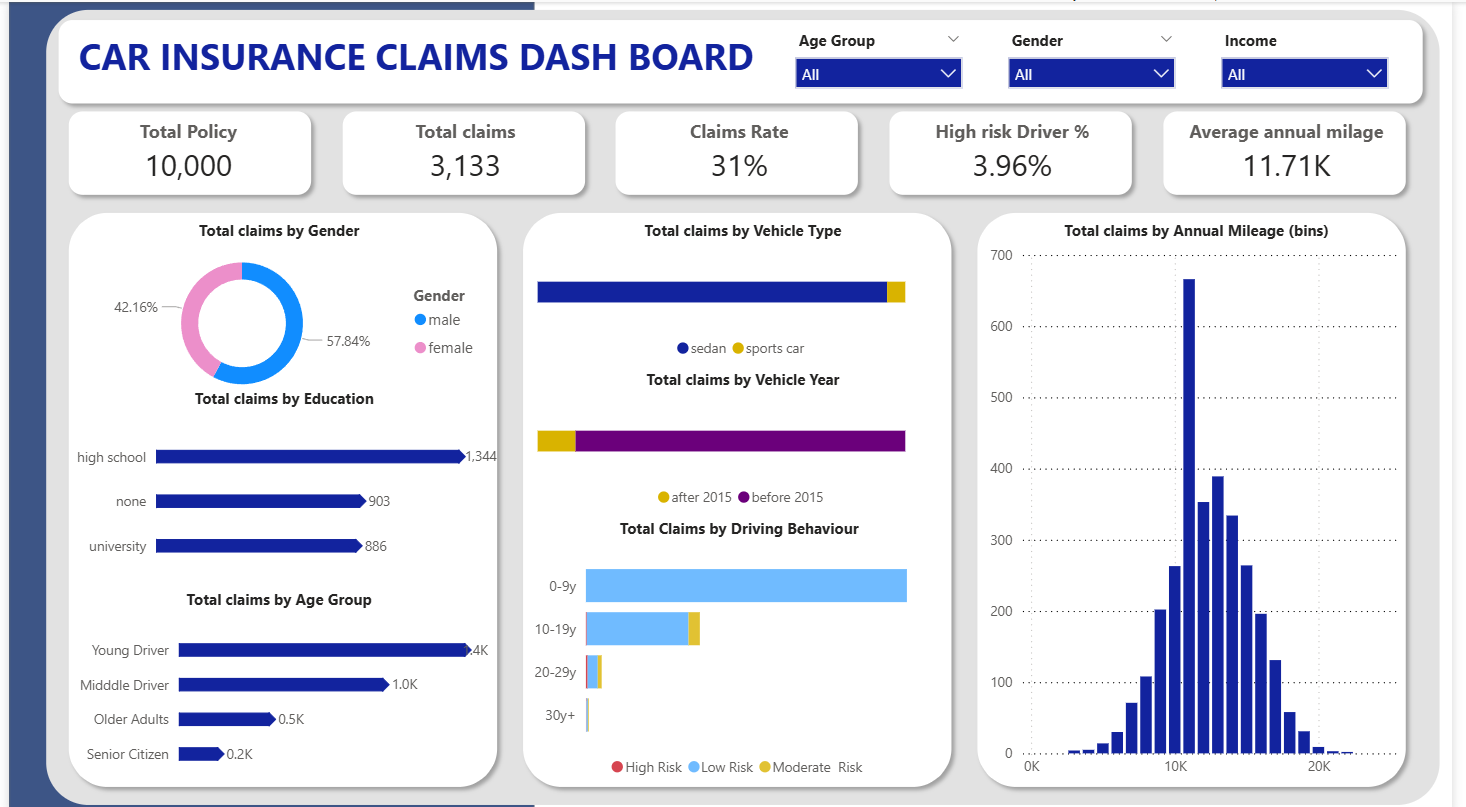

The page's visual inventory and layout, read from the dashboard file:
{"tool":"powerbi","page":{"name":"Page 1","canvas":[1280,720],"ordinal":0},"visuals":[{"type":"cardVisual","fields":{"Data":["Dax Measure.total Policy"]},"box":[50.5,86.9,217.2,83.3],"z":0},{"type":"cardVisual","fields":{"Data":["Dax Measure.Total claims"]},"box":[296.2,86.9,217.2,83.3],"z":1000},{"type":"cardVisual","fields":{"Data":["Dax Measure.Claims Rate"]},"box":[539.1,86.9,217.2,83.3],"z":2000},{"type":"cardVisual","fields":{"Data":["Dax Measure.High risk Driver %"]},"box":[781.2,86.9,217.2,83.3],"z":3000},{"type":"cardVisual","fields":{"Data":["Dax Measure.Average annual milage"]},"box":[1024.1,86.9,217.2,83.3],"z":4000},{"type":"donutChart","fields":{"Y":["Dax Measure.Total claims"],"Category":["Car_Insurance_Claim.Gender"]},"box":[49.4,193.5,380,166.3],"z":5000},{"type":"barChart","fields":{"Category":["Car_Insurance_Claim.Education"],"Y":["Dax Measure.Total claims"]},"box":[50.4,342.7,387,177.4],"z":6000},{"type":"barChart","fields":{"Y":["Dax Measure.Total claims"],"Category":["Car_Insurance_Claim.Age Group"]},"box":[49.4,520.1,380,176.4],"z":7000},{"type":"barChart","fields":{"Y":["Dax Measure.Total claims"],"Series":["Car_Insurance_Claim.Vehicle Type"]},"box":[463.7,193.3,374.2,132.1],"z":8000},{"type":"barChart","fields":{"Y":["Dax Measure.Total claims"],"Series":["Car_Insurance_Claim.Vehicle Year"]},"box":[463.7,325.4,374.2,132.1],"z":9000},{"type":"barChart","title":"Total Claims by Driving Behaviour","fields":{"Y":["Dax Measure.Total claims"],"Category":["Car_Insurance_Claim.Driving Experience"],"Series":["Car_Insurance_Claim.Driving Risk Category"]},"box":[457.6,457.6,380,238.9],"z":10000},{"type":"clusteredColumnChart","fields":{"Category":["Car_Insurance_Claim.Annual Mileage (bins)"],"Y":["Dax Measure.Total claims"]},"box":[864.8,193.5,376.9,502.9],"z":11000},{"type":"textbox","box":[50.4,20.2,620.9,66.5],"z":12000},{"type":"slicer","fields":{"Values":["Car_Insurance_Claim.Age Group"]},"box":[687.4,20.2,168.3,66.5],"z":13000},{"type":"slicer","fields":{"Values":["Car_Insurance_Claim.Gender"]},"box":[876.3,20.2,168.3,66.5],"z":14000},{"type":"slicer","fields":{"Values":["Car_Insurance_Claim.Income"]},"box":[1065.3,20.2,168.3,66.5],"z":15000}]}

Visuals, with their boxes in screenshot pixels (x1, y1, x2, y2), scaled from the page's 1280x720 canvas onto the 1466x807 screenshot:
cardVisual - Dax Measure.total Policy: <bbox>58, 97, 307, 191</bbox>
cardVisual - Dax Measure.Total claims: <bbox>339, 97, 588, 191</bbox>
cardVisual - Dax Measure.Claims Rate: <bbox>617, 97, 866, 191</bbox>
cardVisual - Dax Measure.High risk Driver %: <bbox>895, 97, 1143, 191</bbox>
cardVisual - Dax Measure.Average annual milage: <bbox>1173, 97, 1422, 191</bbox>
donutChart - Dax Measure.Total claims x Car_Insurance_Claim.Gender: <bbox>57, 217, 492, 403</bbox>
barChart - Car_Insurance_Claim.Education x Dax Measure.Total claims: <bbox>58, 384, 501, 583</bbox>
barChart - Dax Measure.Total claims x Car_Insurance_Claim.Age Group: <bbox>57, 583, 492, 781</bbox>
barChart - Dax Measure.Total claims x Car_Insurance_Claim.Vehicle Type: <bbox>531, 217, 960, 365</bbox>
barChart - Dax Measure.Total claims x Car_Insurance_Claim.Vehicle Year: <bbox>531, 365, 960, 513</bbox>
"Total Claims by Driving Behaviour" barChart: <bbox>524, 513, 959, 781</bbox>
clusteredColumnChart - Car_Insurance_Claim.Annual Mileage (bins) x Dax Measure.Total claims: <bbox>990, 217, 1422, 781</bbox>
textbox: <bbox>58, 23, 769, 97</bbox>
slicer - Car_Insurance_Claim.Age Group: <bbox>787, 23, 980, 97</bbox>
slicer - Car_Insurance_Claim.Gender: <bbox>1004, 23, 1196, 97</bbox>
slicer - Car_Insurance_Claim.Income: <bbox>1220, 23, 1413, 97</bbox>
